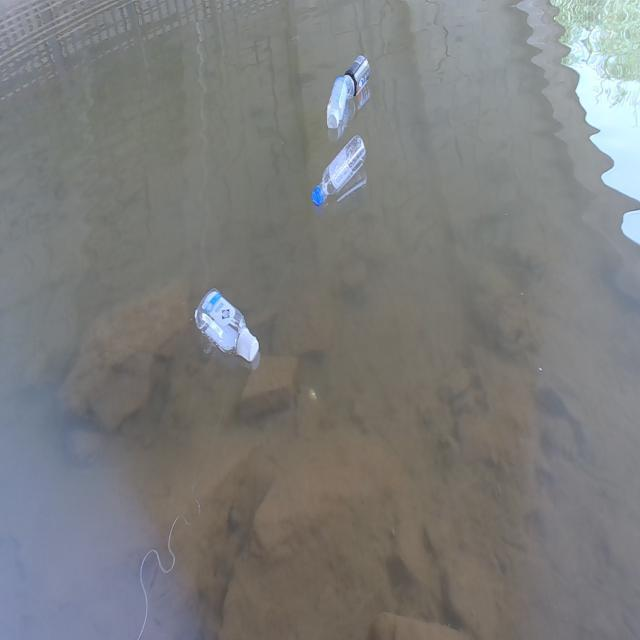garbage: (194, 286, 260, 369), (311, 134, 367, 206), (326, 53, 370, 133)
